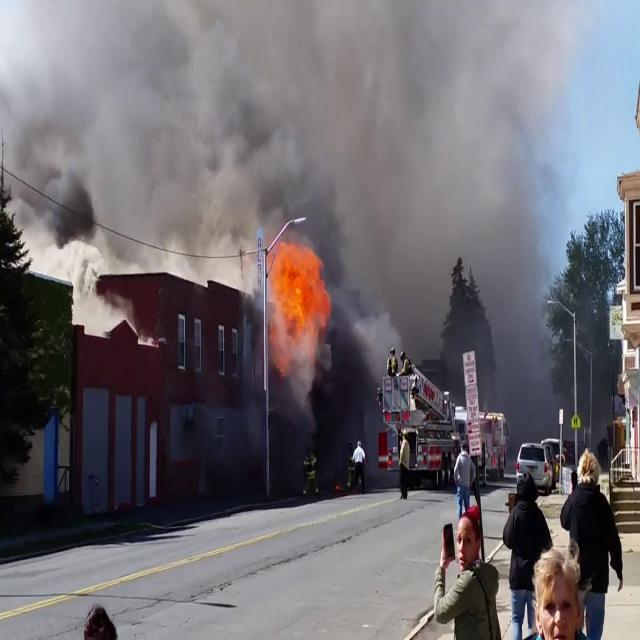Fire: (256, 233, 332, 350)
Smoke: (0, 0, 610, 262)
